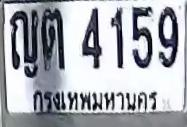1: (110, 7, 124, 64)
4: (80, 6, 101, 68)
5: (132, 5, 152, 68)
9: (158, 6, 178, 68)
A13: (8, 9, 38, 69)
A21: (40, 7, 65, 70)
BKK: (28, 86, 165, 114)
